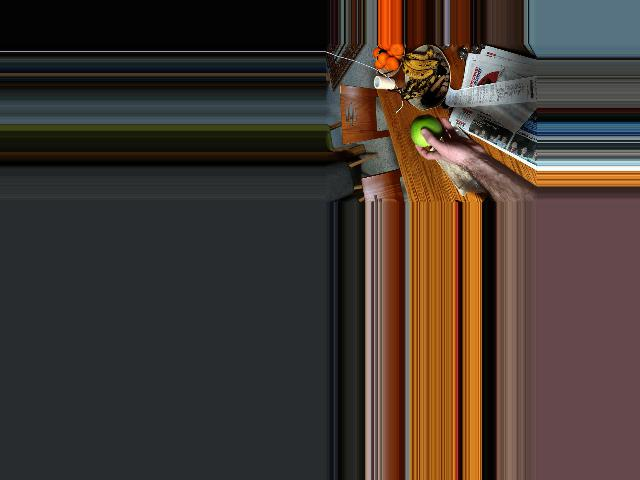apple: (406, 114, 444, 146)
